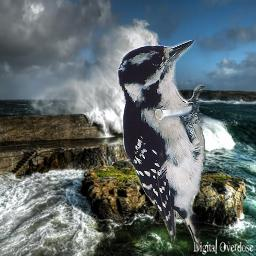Woodpecker: (117, 40, 211, 254)
